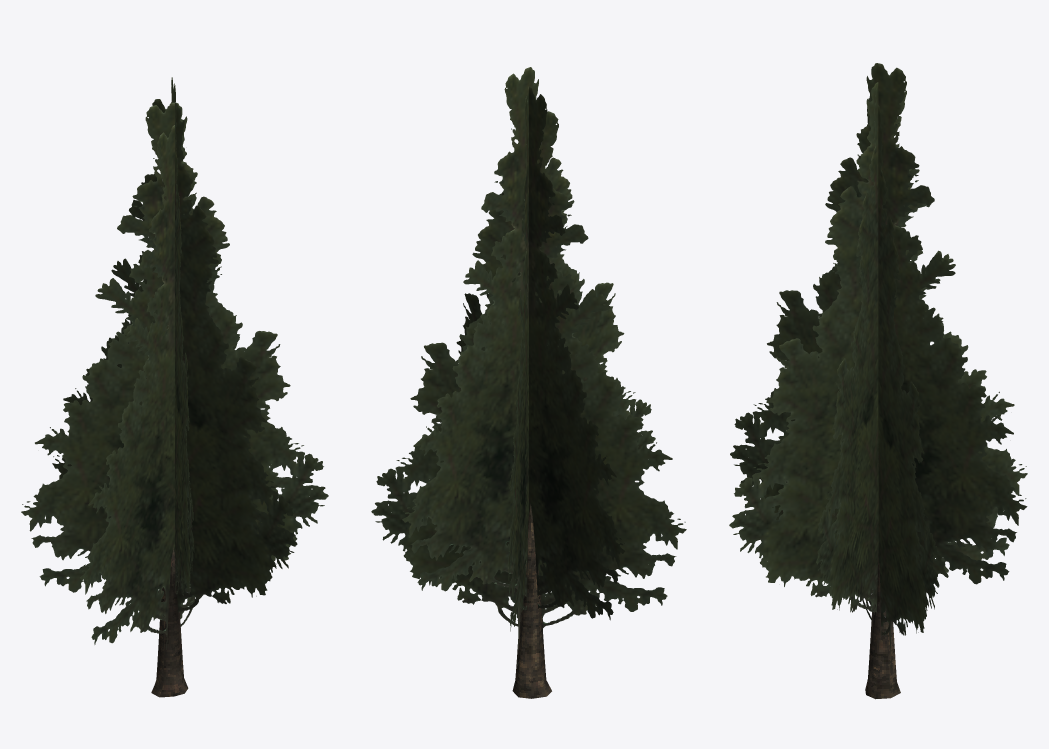
Rendered from tree_rt_1.fbx.
The picture shows the model from 3 angles, left to right: view 1: azimuth 30°, elevation 25°; view 2: azimuth 150°, elevation 25°; view 3: azimuth 270°, elevation 25°; orthographic projection. The views are drawn at different scales.
Visible parts, largest first — view 1: tree_rt_1; view 2: tree_rt_1; view 3: tree_rt_1.
Boxes of the visible parts, bbox=[...] form: tree_rt_1: bbox=[21, 77, 328, 697]; tree_rt_1: bbox=[371, 67, 686, 698]; tree_rt_1: bbox=[729, 63, 1027, 699].
Bounding box in the file's own units: 1 × 1 × 2.24.
